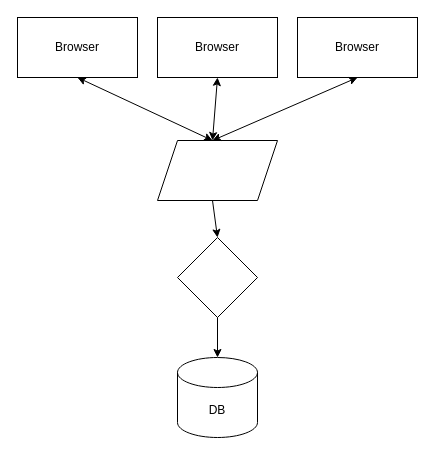
Image size: 435x455. Some labels were removed from this diagram. The shapes that lost their labels are listed below. From the top down, each one's centre as x and y in pixels, then its label:
point (217, 170): HTTP Server
point (217, 277): Logic
